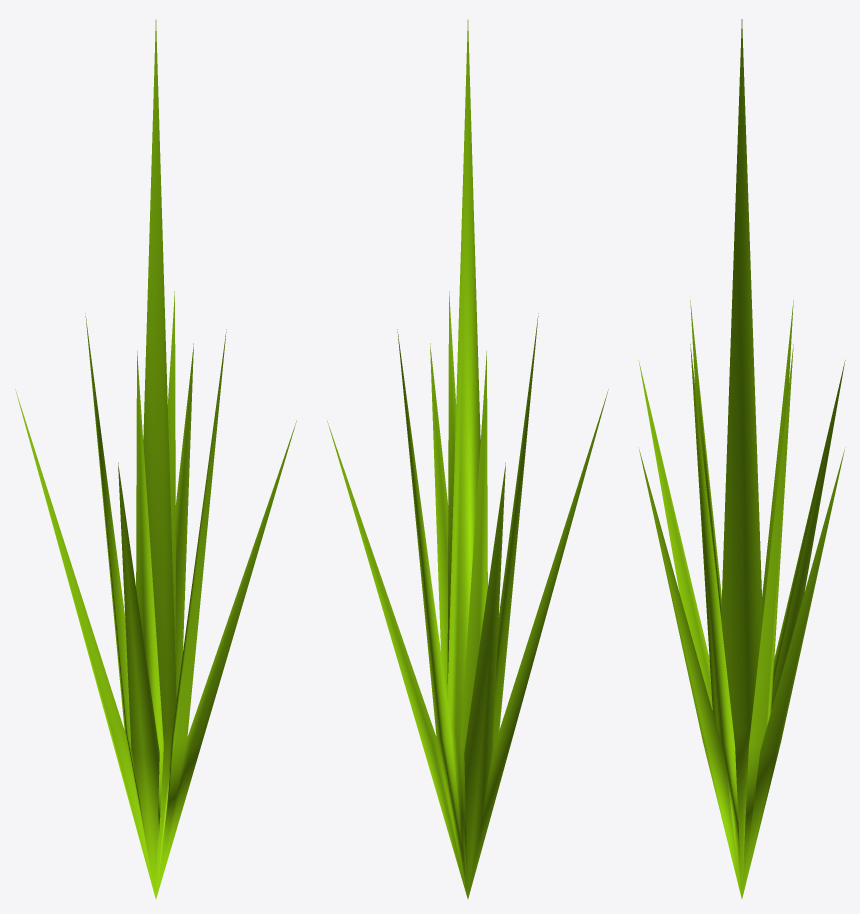
File: Perenna100cm.glb
The picture shows the model from 3 angles, left to right: view 1: azimuth 30°, elevation 25°; view 2: azimuth 150°, elevation 25°; view 3: azimuth 270°, elevation 25°; orthographic projection.
Visible parts, largest first — view 1: Perenna100cm; view 2: Perenna100cm; view 3: Perenna100cm.
Boxes of the visible parts, <box> form: Perenna100cm: <box>15,20,296,898</box>; Perenna100cm: <box>327,20,608,898</box>; Perenna100cm: <box>638,19,845,898</box>.
Bounding box in the file's own units: 0.2122 × 1 × 0.2122.
